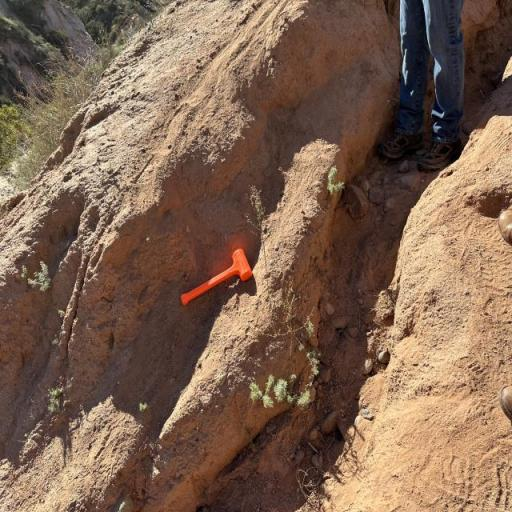mallet: (179, 247, 254, 306)
